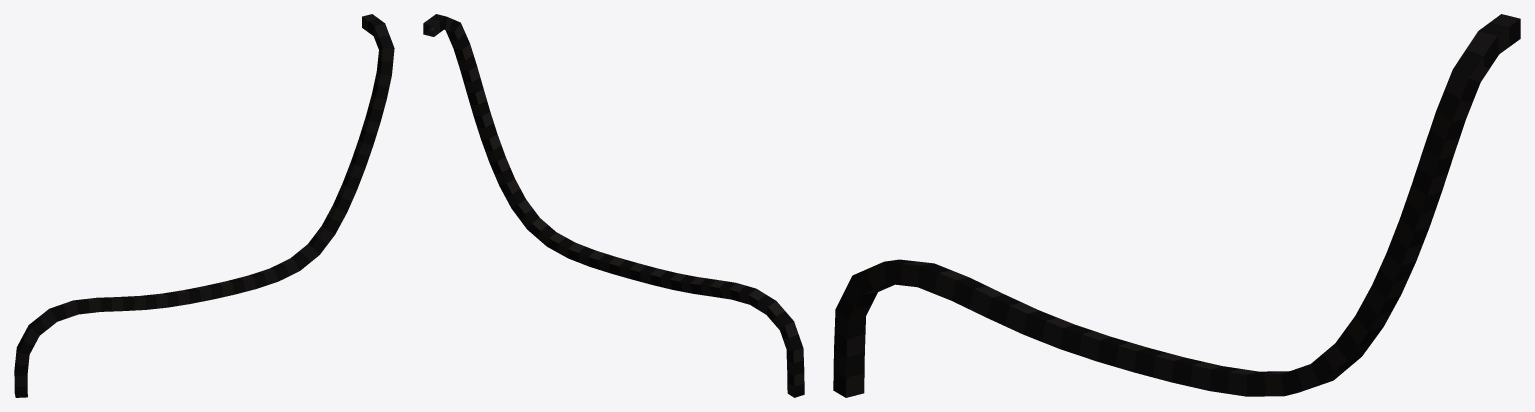
File: wire_computer-power.fbx
3 views of the same model, side by side, from view 1: azimuth 30°, elevation 25°; view 2: azimuth 150°, elevation 25°; view 3: azimuth 330°, elevation 25° (orthographic). The views are drawn at different scales.
Visible parts, largest first — view 1: wire_computer-power; view 2: wire_computer-power; view 3: wire_computer-power.
Part boxes in pixels (box(x1,y1,x2,y2)): wire_computer-power: box(14, 14, 394, 397); wire_computer-power: box(423, 14, 804, 397); wire_computer-power: box(833, 14, 1520, 397).
Bounding box in the file's own units: 173 × 129 × 24.41.
